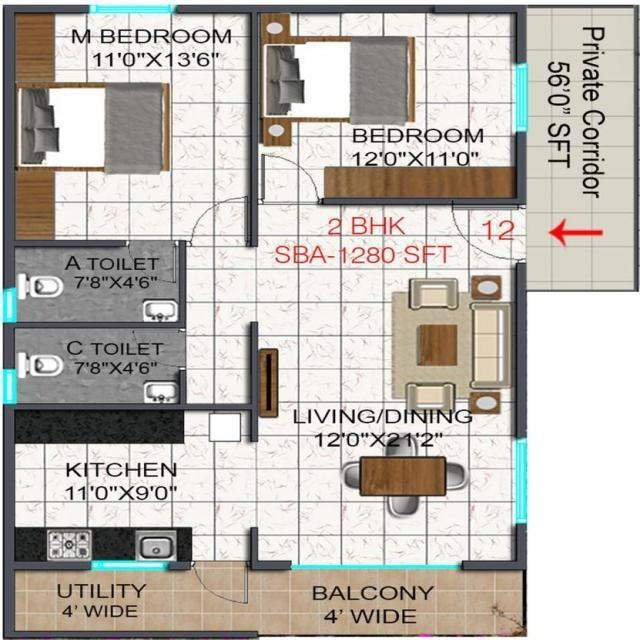Balcony-Sitout: (250, 561, 528, 637)
Bedroom: (250, 6, 529, 206)
Bedroom with Toilet: (2, 2, 257, 246)
Dining: (344, 432, 469, 523)
Enterance-Foyer: (430, 201, 605, 265)
Kitchen: (3, 405, 259, 570)
Living: (247, 204, 517, 415)
Toilet: (2, 241, 189, 326), (2, 323, 188, 408)
Utility: (0, 563, 258, 636)
